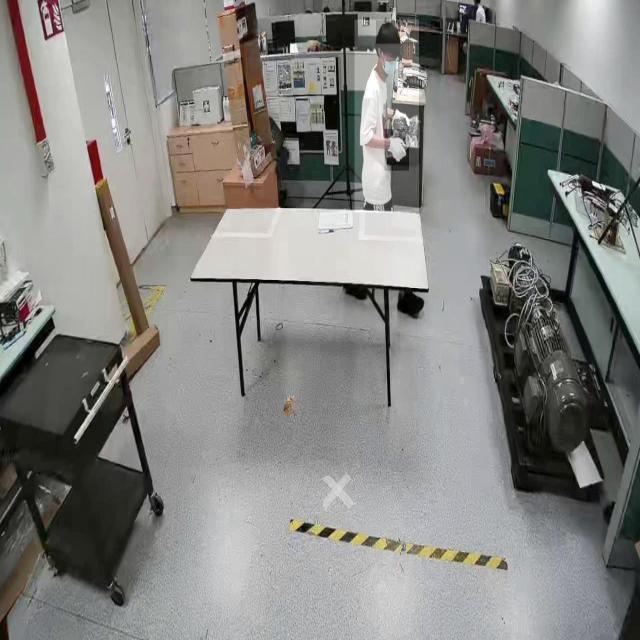face_mask: (377, 46, 402, 84)
hand_glove: (384, 129, 410, 171)
head_nohelmet: (376, 20, 400, 44)
person: (354, 20, 420, 214)
